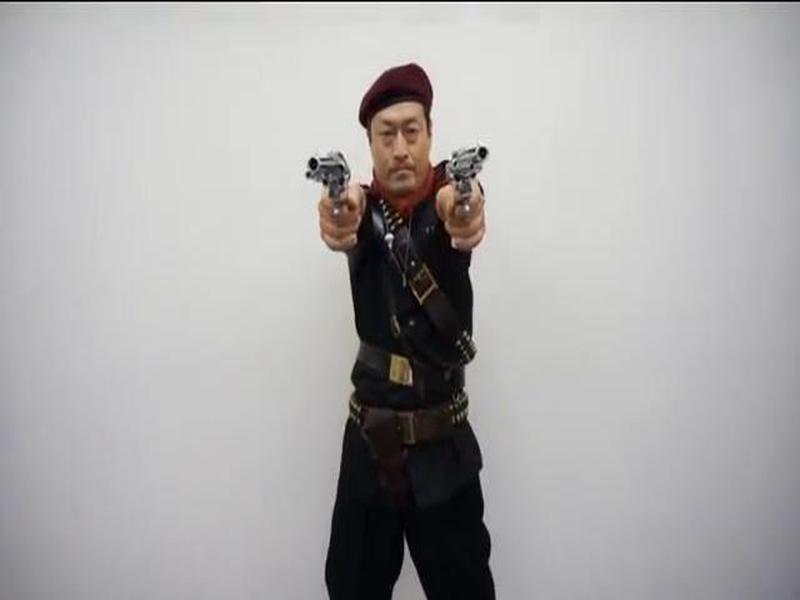Revolver: (440, 136, 513, 219), (299, 135, 368, 219)
